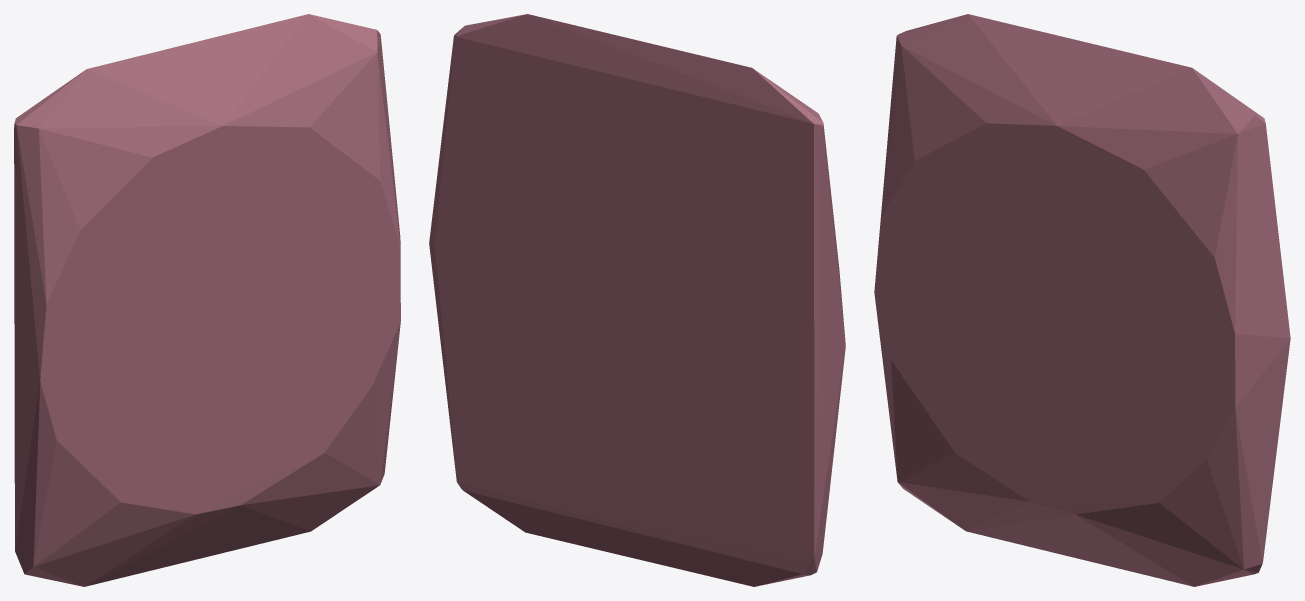
File: coolingSystem_fan_shroud_a01.glb
3 views of the same model, side by side, from view 1: azimuth 30°, elevation 25°; view 2: azimuth 150°, elevation 25°; view 3: azimuth 330°, elevation 25° (orthographic).
Visible parts, largest first — view 1: geometry_0; view 2: geometry_0; view 3: geometry_0.
Boxes of the visible parts, x1=… form: geometry_0: x1=14, y1=14, x2=400, y2=586; geometry_0: x1=429, y1=14, x2=845, y2=586; geometry_0: x1=874, y1=14, x2=1290, y2=586.
Bounding box in the file's own units: 0.3773 × 0.4794 × 0.0475.
